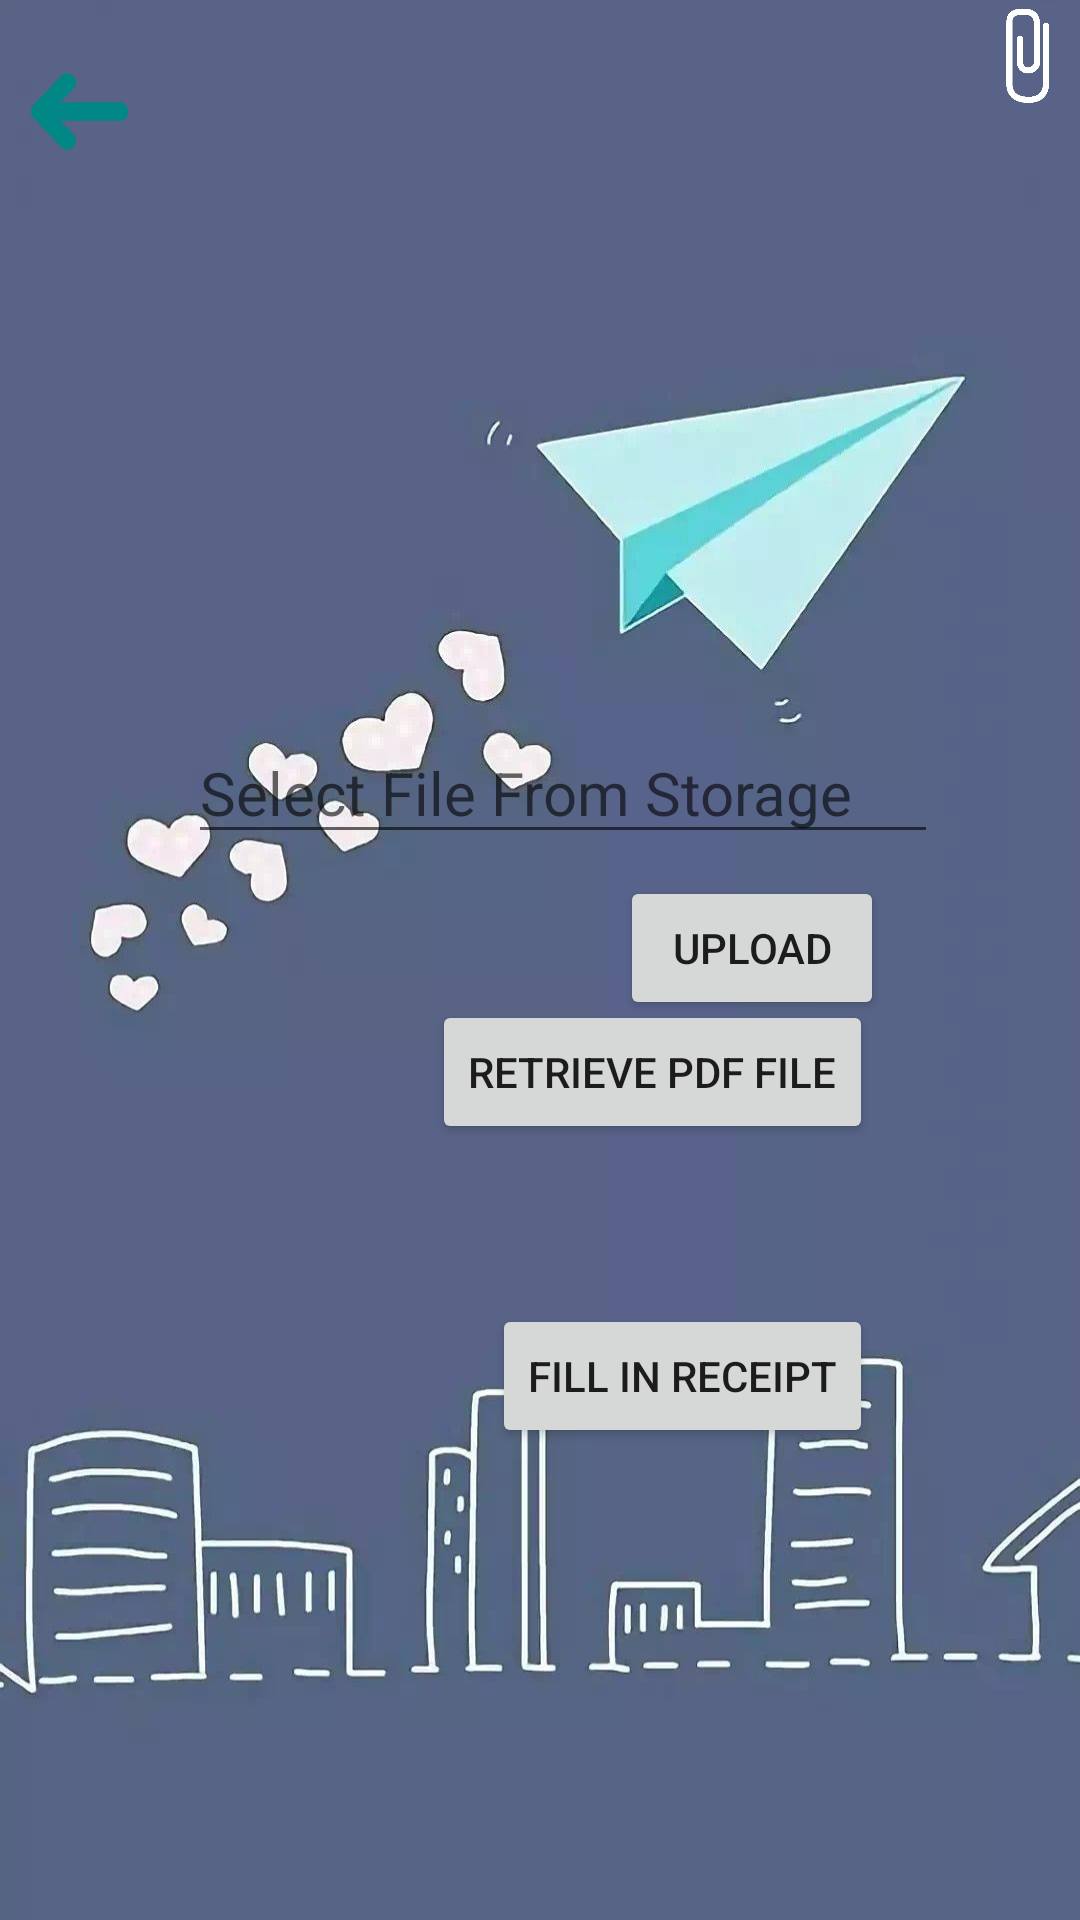

Icons on this 1080*1920 Android screen, each with the point to tap as (x=x, y=y):
attachment: (x=1027, y=56)
back: (x=79, y=111)
